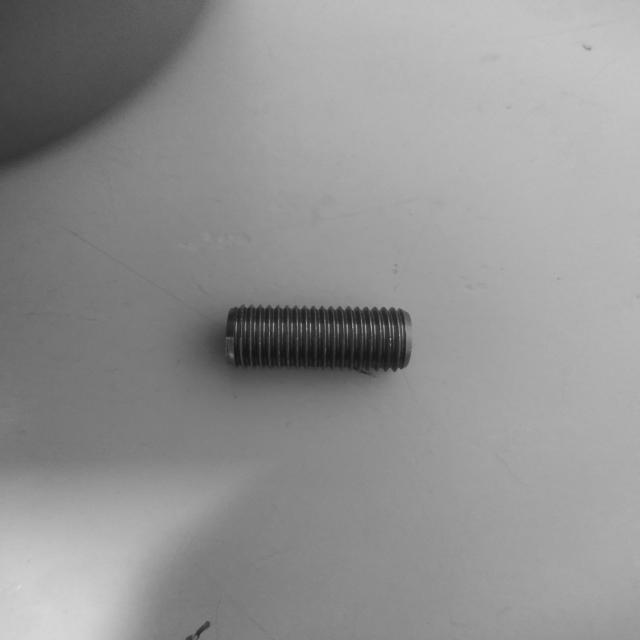Normal: (226, 304, 411, 373)
